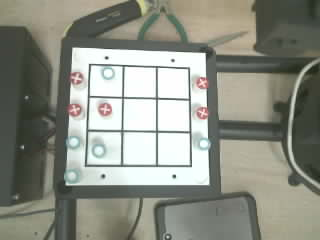blue circle: (64, 169, 79, 183), (92, 144, 105, 157), (66, 136, 80, 148), (101, 67, 114, 79), (198, 138, 210, 149)
board: (65, 48, 210, 185)
cells: (87, 132, 120, 164), (158, 133, 190, 165), (88, 98, 121, 129), (123, 99, 155, 130), (90, 65, 122, 96), (123, 133, 155, 164), (158, 68, 189, 98), (158, 100, 189, 130), (124, 67, 155, 96)
grid: (85, 64, 191, 166)
red cross: (98, 103, 111, 116), (70, 72, 83, 84), (68, 104, 81, 116), (196, 107, 208, 119), (196, 77, 208, 88)
